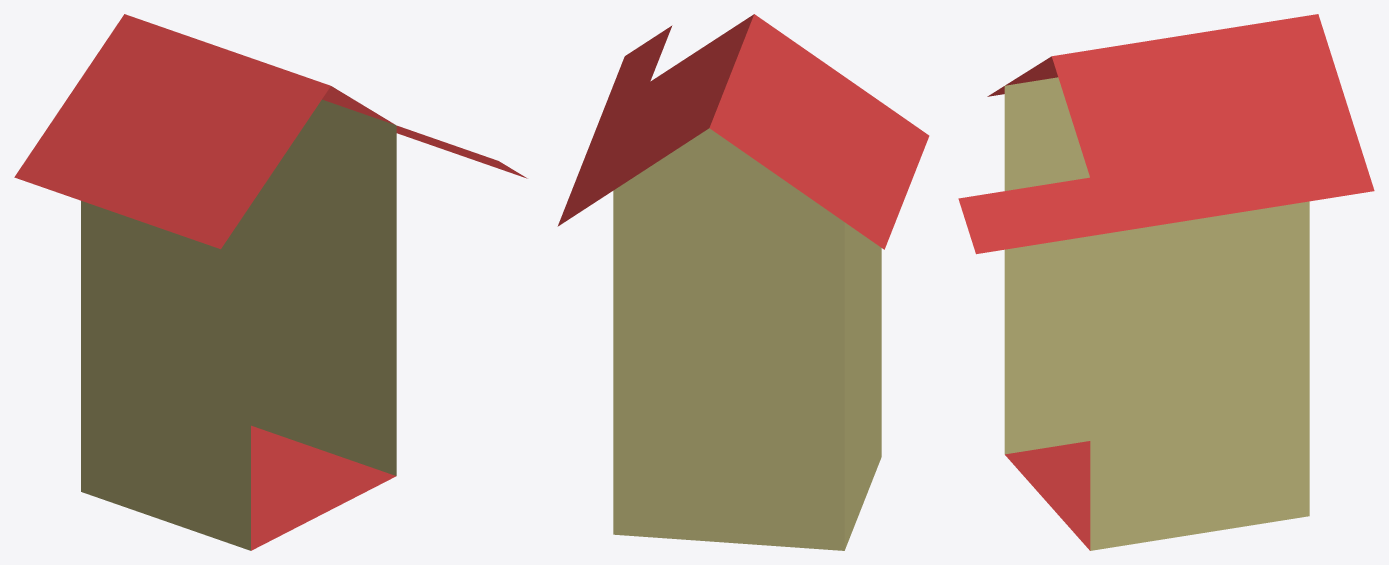
3 renders of one model, left to right at view 1: azimuth 30°, elevation 25°; view 2: azimuth 150°, elevation 25°; view 3: azimuth 270°, elevation 25°, orthographic. The views are drawn at different scales.
Size of the model in its own units: 9.36 by 8.26 by 9.88.
